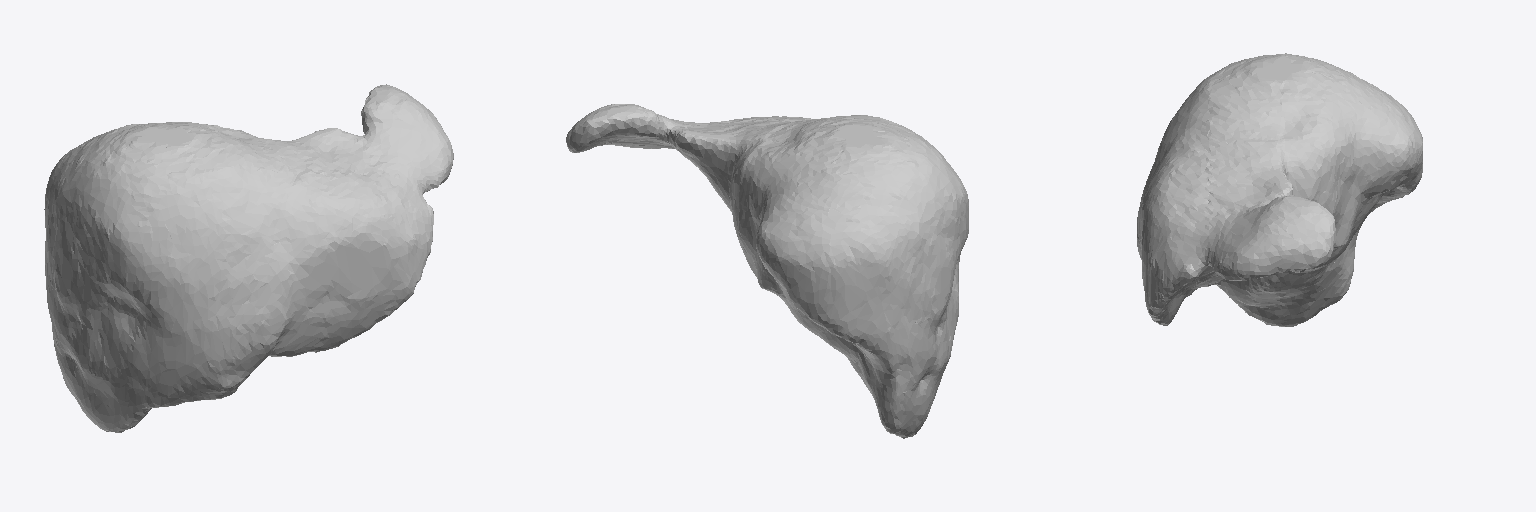
The model's file is Liver.obj.
The picture shows the model from 3 angles: view 1: azimuth 30°, elevation 25°; view 2: azimuth 150°, elevation 25°; view 3: azimuth 270°, elevation 25°; orthographic projection.
Parts seen in each view (by area): view 1: Liver; view 2: Liver; view 3: Liver.
Boxes of the visible parts, <box> form: Liver: <box>44,84,453,432</box>; Liver: <box>566,104,968,438</box>; Liver: <box>1137,53,1422,326</box>.
Size of the model in its own units: 27.04 by 19.99 by 18.31.